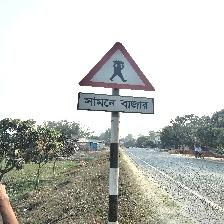Market-in-front: (78, 43, 156, 115)
